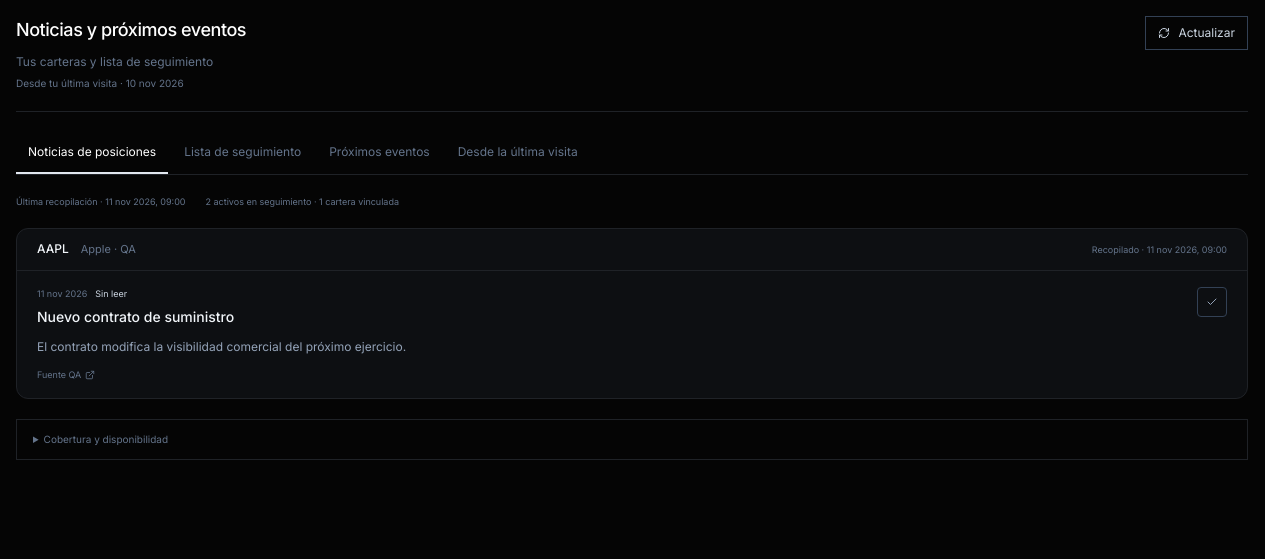
Test: renders calendar-only evidence without invented hours and translates multiple and days units
Check: the heading "Nuevo contrato de suministro" is shown, box 37,306 -> 234,329
Click the tab "Desde la última visita" at (518, 152), box 446,132 -> 590,174
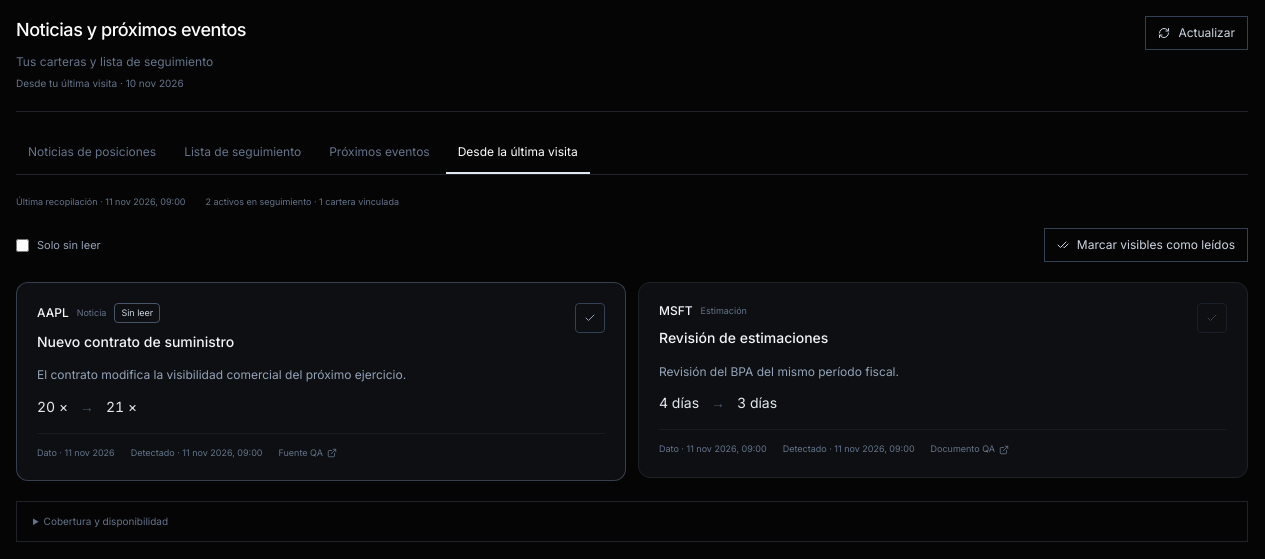
Check: the text "20 ×→21 ×" is shown, box 37,398 -> 137,415
Check: the text "4 días→3 días" is shown, box 659,394 -> 777,411
